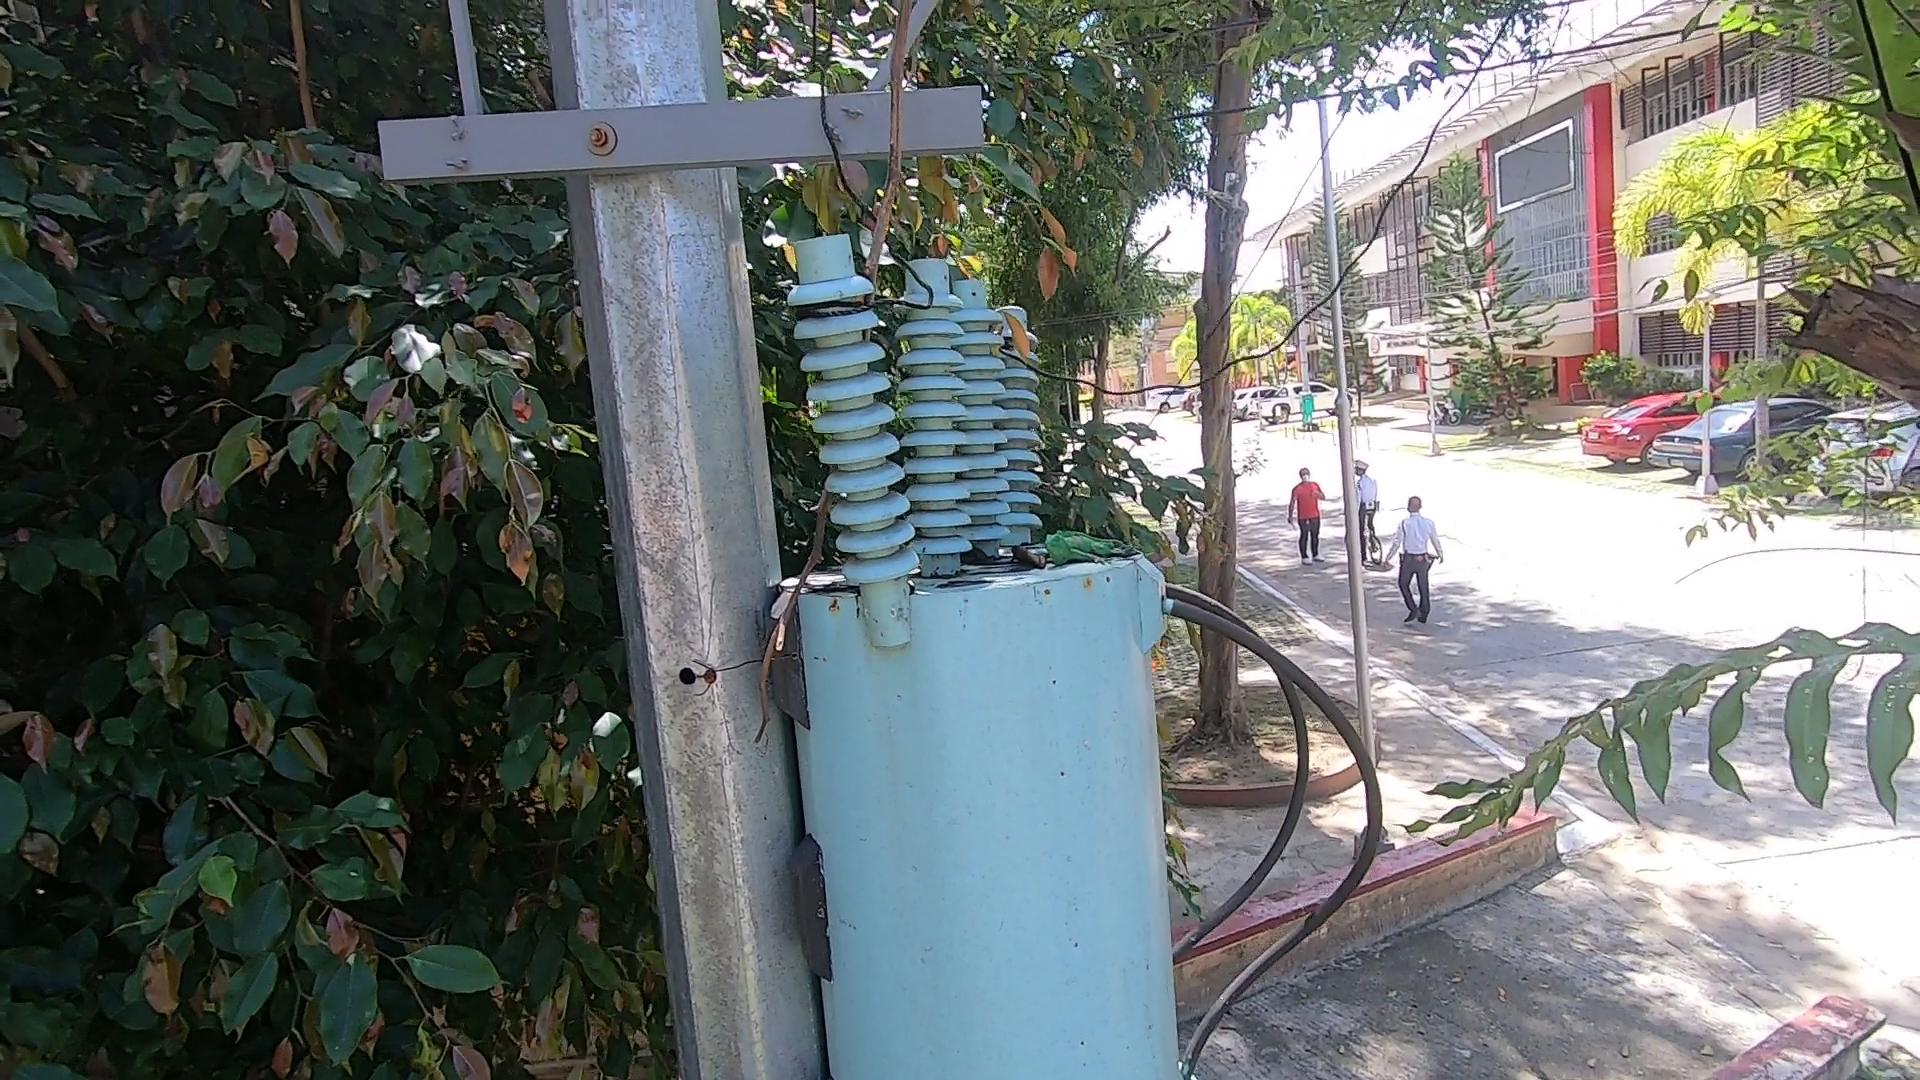leaf: (1000, 309, 1047, 353), (963, 541, 996, 568), (1013, 541, 1040, 568)
tree branch: (744, 3, 953, 746)
